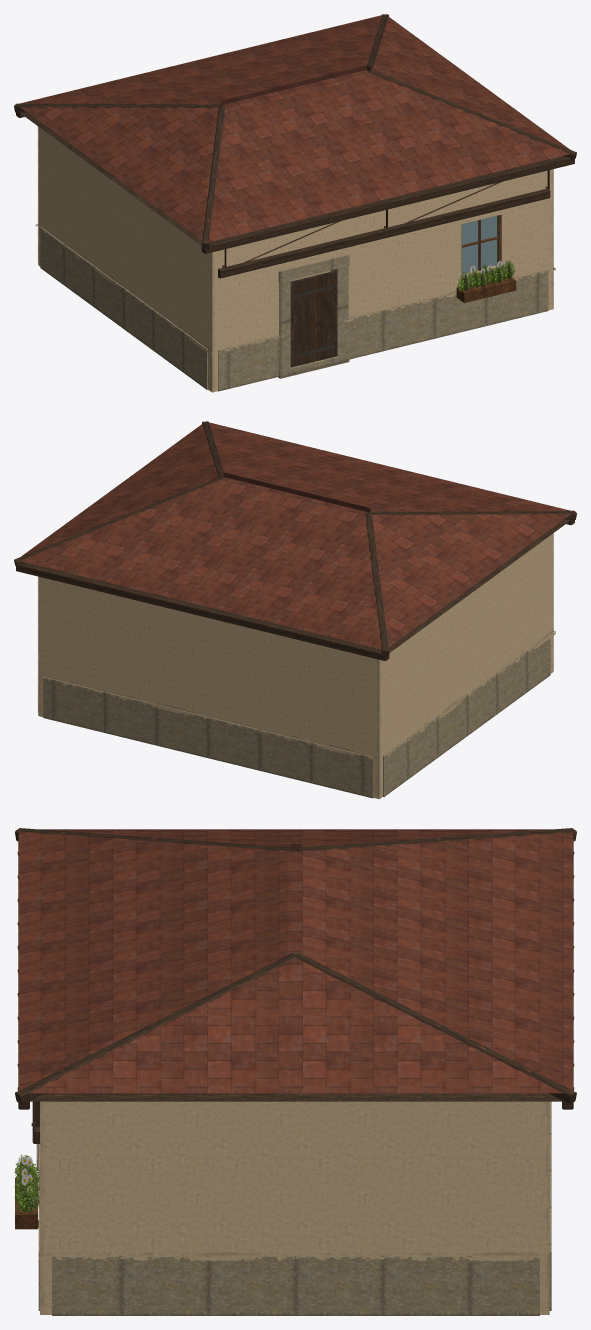
The model's file is B22_vivienda.gltf.
3 renders of one model, top to bottom at view 1: azimuth 30°, elevation 25°; view 2: azimuth 150°, elevation 25°; view 3: azimuth 270°, elevation 25°, orthographic. The views are drawn at different scales.
Parts seen in each view (by area): view 1: AUR034_B22_clay_tiles, AUR034_B22_lower_masonry, B22_runtime_static_037, B22_runtime_static_000, AUR034_B22_entry_leaf0, AUR034_B22_window0_glazing, B22_runtime_static_044, B22_herbs_0, AUR034_B22_ridge, B22_plaster_stone_joint_wear; view 2: AUR034_B22_clay_tiles, AUR034_B22_lower_masonry, B22_runtime_static_037, B22_runtime_static_000, B22_plaster_stone_joint_wear, AUR034_B22_ridge; view 3: AUR034_B22_clay_tiles, AUR034_B22_lower_masonry, B22_runtime_static_037, B22_runtime_static_000, B22_plaster_stone_joint_wear, B22_herbs_0, B22_AUR034_B22_lower_masonry_corner_wear.
Boxes of the visible parts, box(x1,y1,x2,y2) form: AUR034_B22_clay_tiles: box(16, 14, 574, 242); AUR034_B22_lower_masonry: box(38, 127, 553, 392); B22_runtime_static_037: box(40, 227, 548, 391); B22_runtime_static_000: box(14, 14, 576, 278); AUR034_B22_entry_leaf0: box(290, 271, 336, 367); AUR034_B22_window0_glazing: box(462, 215, 497, 273); B22_runtime_static_044: box(222, 186, 547, 365); B22_herbs_0: box(457, 261, 515, 292); AUR034_B22_ridge: box(220, 65, 370, 104); B22_plaster_stone_joint_wear: box(35, 224, 555, 354); AUR034_B22_clay_tiles: box(16, 421, 574, 650); AUR034_B22_lower_masonry: box(38, 533, 553, 799); B22_runtime_static_037: box(43, 634, 550, 798); B22_runtime_static_000: box(14, 421, 576, 661); B22_plaster_stone_joint_wear: box(38, 630, 555, 761); AUR034_B22_ridge: box(220, 472, 370, 511); AUR034_B22_clay_tiles: box(18, 829, 573, 1093); AUR034_B22_lower_masonry: box(40, 1101, 549, 1314); B22_runtime_static_037: box(36, 1101, 551, 1315); B22_runtime_static_000: box(15, 828, 576, 1227); B22_plaster_stone_joint_wear: box(38, 1252, 540, 1261); B22_herbs_0: box(14, 1154, 39, 1211); B22_AUR034_B22_lower_masonry_corner_wear: box(40, 1102, 549, 1310).
Size of the model in its own units: 9.1 by 4.74 by 8.08.
Materials: 12 (11 with a texture image).
